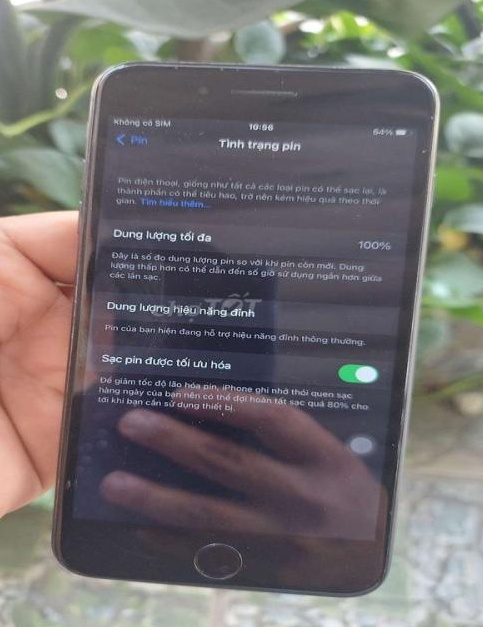scratch: (188, 530, 260, 579), (130, 60, 292, 75), (411, 106, 439, 160), (273, 82, 291, 93), (64, 476, 70, 491)
